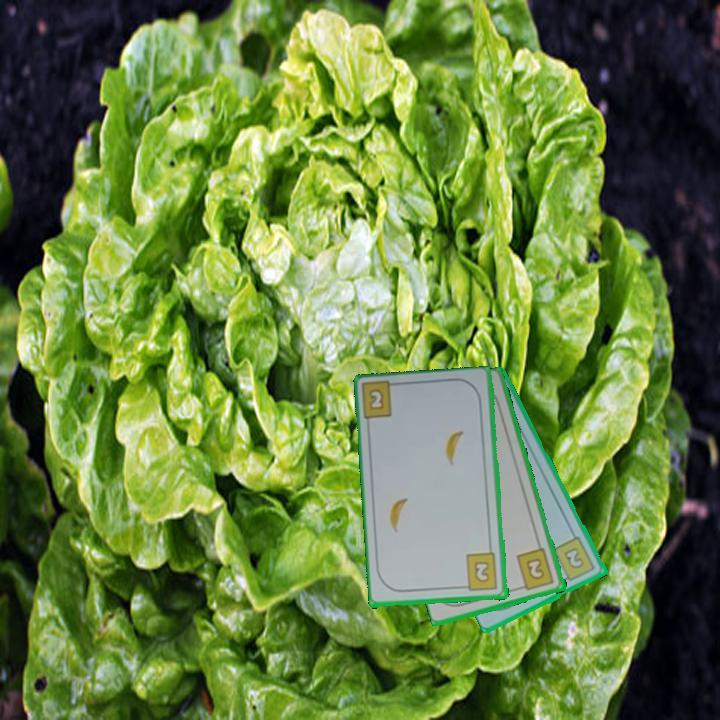2b: (550, 533, 599, 585), (513, 545, 557, 594), (459, 550, 501, 594), (365, 386, 387, 413)
